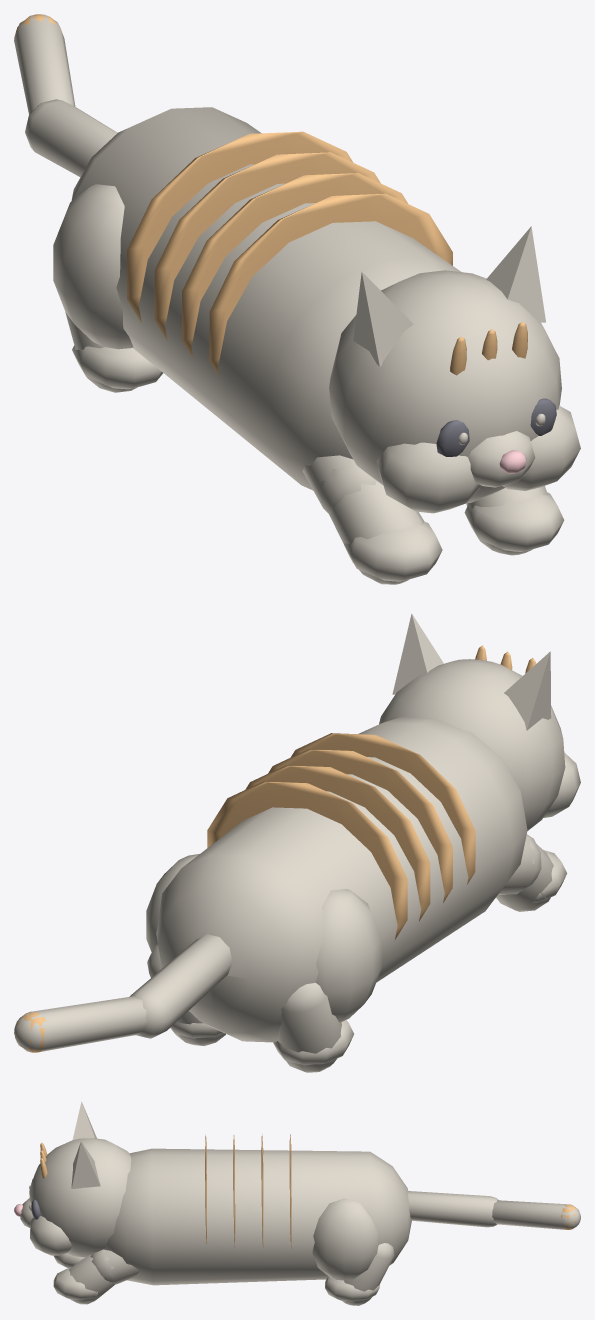
The model's file is companion-animals-and-pet-home-cat-stalking-calico-03f98ea2__20556.glb.
The picture shows the model from 3 angles, top to bottom: view 1: azimuth 30°, elevation 25°; view 2: azimuth 150°, elevation 25°; view 3: azimuth 270°, elevation 25°; orthographic projection. The views are drawn at different scales.
Parts seen in each view (by area): view 1: cat-stalking-calico; view 2: cat-stalking-calico; view 3: cat-stalking-calico.
Boxes of the visible parts, x1,y1,x2,y2 form: cat-stalking-calico: [14, 14, 580, 584]; cat-stalking-calico: [14, 613, 580, 1072]; cat-stalking-calico: [14, 1101, 580, 1305].
Size of the model in its own units: 0.2275 by 0.2667 by 0.8263.
